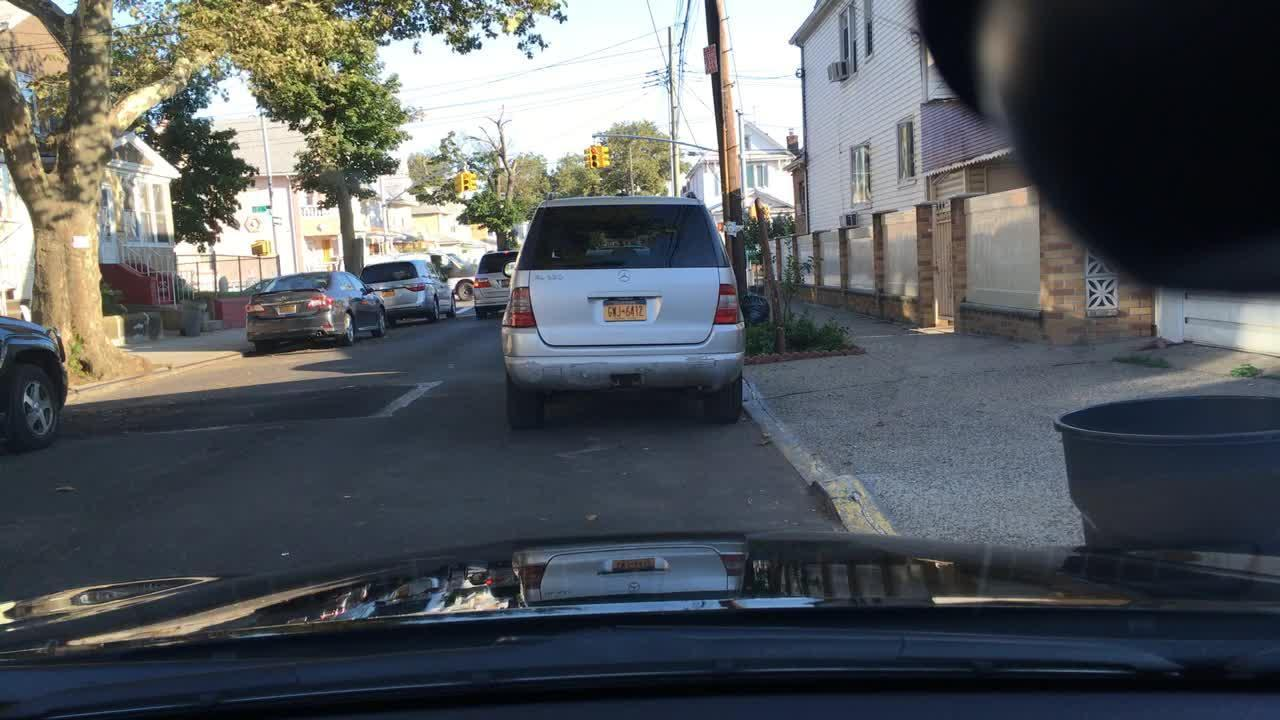Mercedes: (611, 266, 636, 286)
